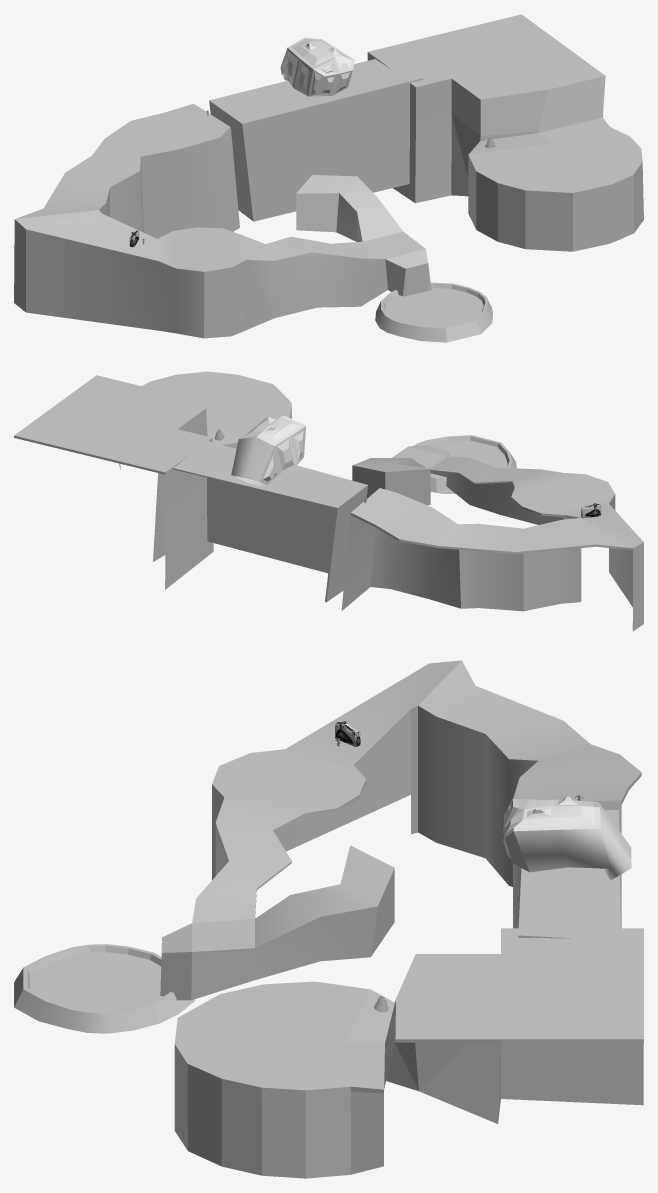
File: MapaUnity.FBX
3 views of the same model, one above another, from view 1: azimuth 30°, elevation 25°; view 2: azimuth 150°, elevation 25°; view 3: azimuth 270°, elevation 25° (orthographic). The views are drawn at different scales.
Visible parts, largest first — view 1: Box013, Object003, Object002, Object001; view 2: Box013, Object003, Object001, Object002; view 3: Box013, Object003, Object002, Object001.
Part boxes in pixels (box(x1,y1,x2,y2)): Box013: box(14, 59, 431, 338); Object003: box(367, 14, 643, 251); Object002: box(375, 282, 492, 342); Object001: box(280, 37, 354, 96); Box013: box(153, 437, 643, 631); Object003: box(14, 371, 291, 589); Object001: box(231, 416, 305, 486); Object002: box(414, 435, 516, 493); Box013: box(160, 660, 641, 1093); Object003: box(174, 928, 643, 1178); Object002: box(14, 944, 195, 1033); Object001: box(503, 796, 631, 880).
Bounding box in the file's own units: 565 × 159 × 366.
